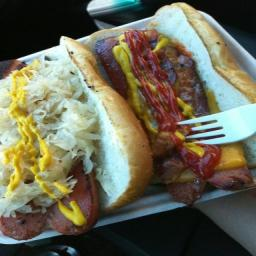hotdog: (135, 39, 256, 207), (1, 54, 96, 246)
